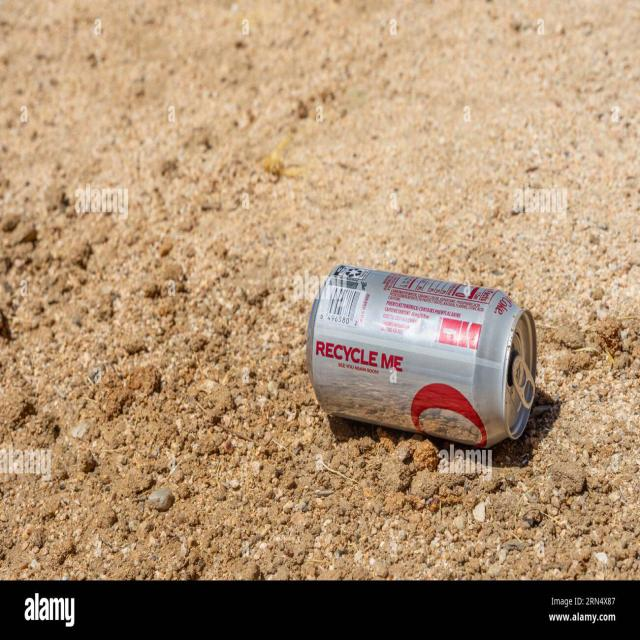aluminum_can: (315, 254, 553, 453)
